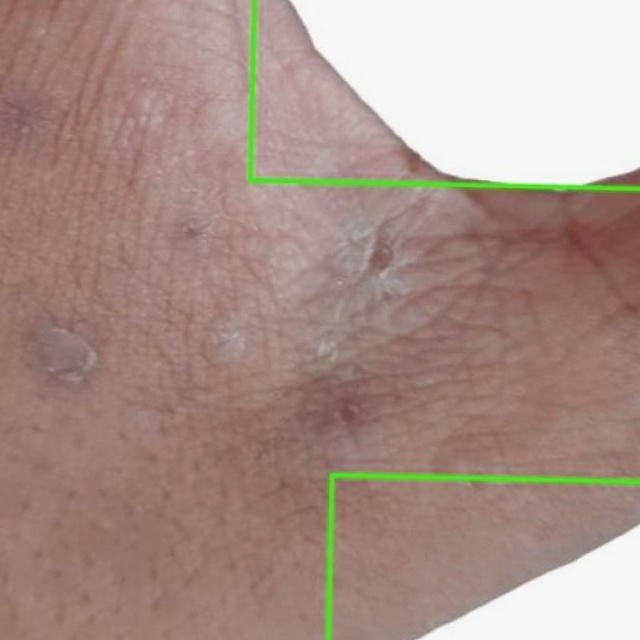Scabies: (250, 0, 639, 188)
